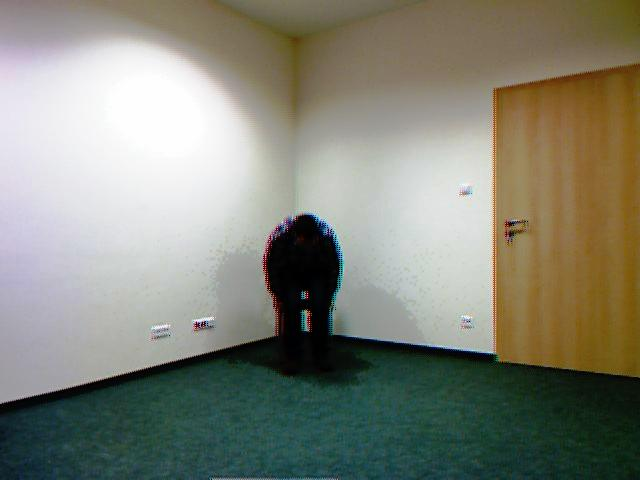bending: (255, 202, 352, 382)
